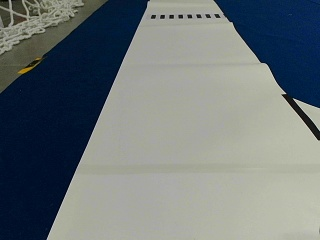crosswalk: (150, 12, 220, 19)
